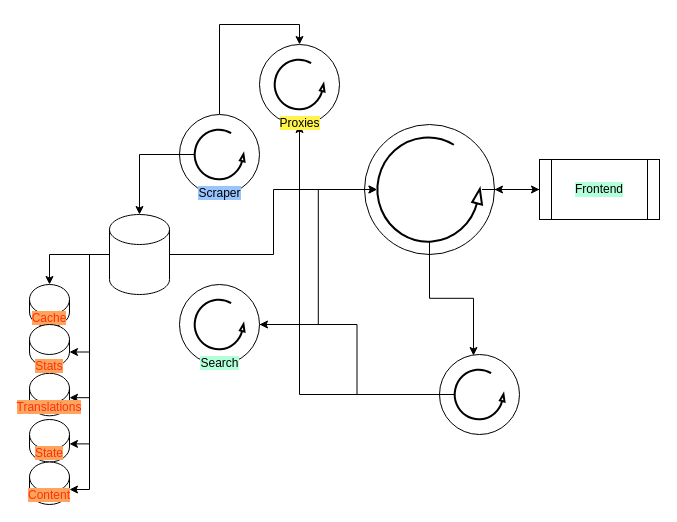
Some shapes in this 677 by 522 pixel diagram are drawn without their labels. The box of each missing label's shape, as (x1, y1, x2, y2) in pixels:
Data: (108, 214, 170, 294)
Publisher: (453, 368, 505, 420)
Server: (364, 124, 494, 254)
